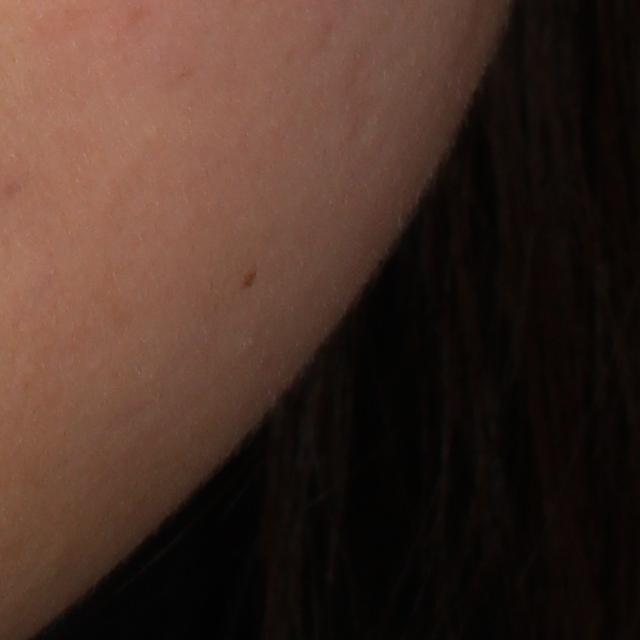nevus: (242, 266, 258, 290)
